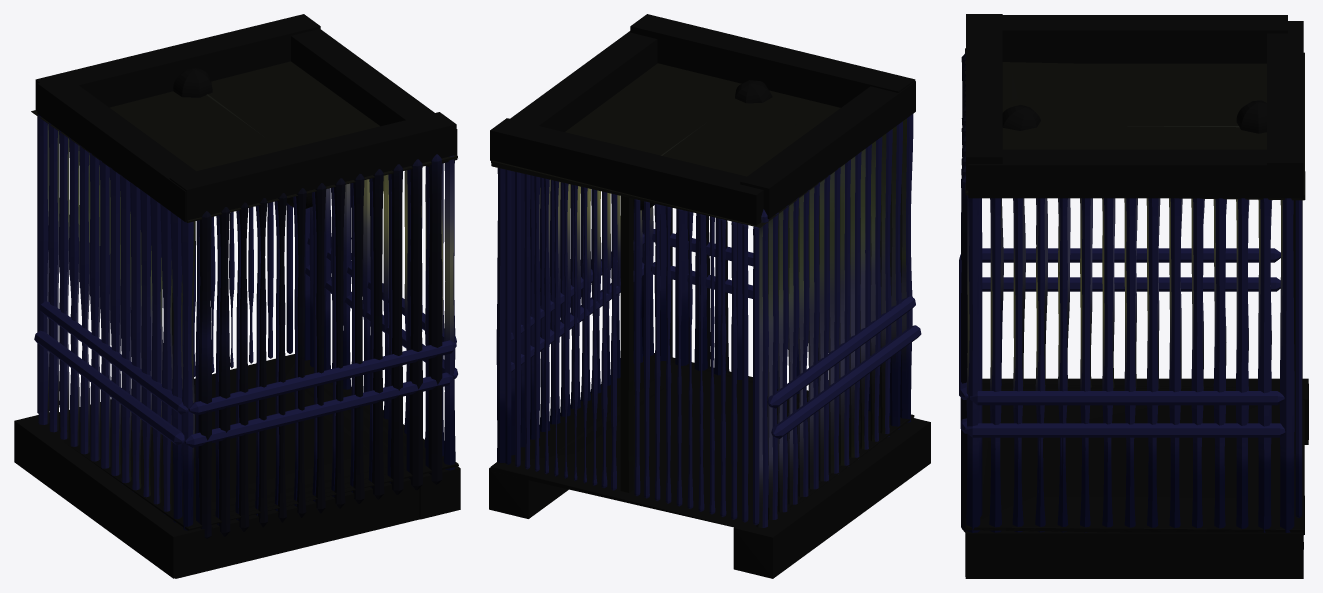
The model's file is Liftcave.fbx.
3 views of the same model, side by side, from view 1: azimuth 30°, elevation 25°; view 2: azimuth 150°, elevation 25°; view 3: azimuth 270°, elevation 25° (orthographic). The views are drawn at different scales.
Visible parts, largest first — view 1: Cave, Shadows, Door-Left, Door-right; view 2: Cave, Shadows, Door-right, Door-Left; view 3: Cave, Shadows, Door-Left.
Boxes of the visible parts, left/top/right/bottom form: Cave: left=14, top=14, right=460, bottom=578; Shadows: left=47, top=124, right=454, bottom=538; Door-Left: left=172, top=202, right=292, bottom=376; Door-right: left=37, top=116, right=162, bottom=413; Cave: left=489, top=14, right=930, bottom=578; Shadows: left=530, top=118, right=906, bottom=527; Door-right: left=621, top=196, right=759, bottom=525; Door-Left: left=505, top=169, right=633, bottom=492; Cave: left=959, top=14, right=1308, bottom=578; Shadows: left=961, top=53, right=1282, bottom=532; Door-Left: left=1293, top=200, right=1302, bottom=517.
Size of the model in its own units: 2.18 by 2.78 by 2.1.
